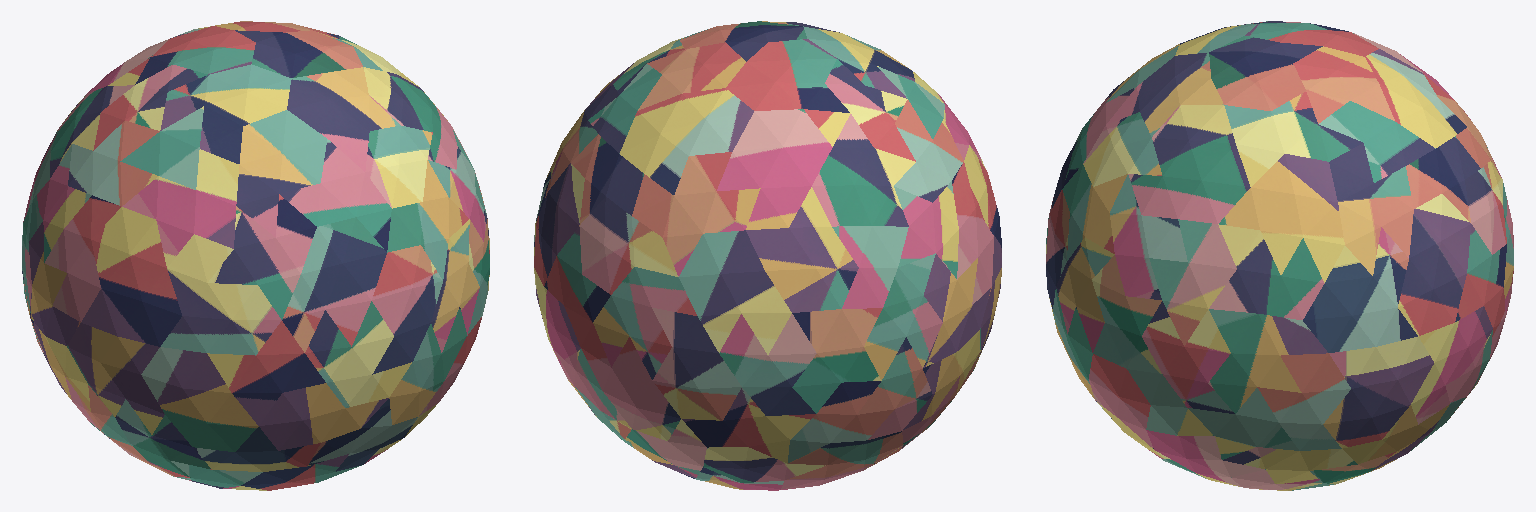
3 views of the same model, side by side, from view 1: azimuth 30°, elevation 25°; view 2: azimuth 150°, elevation 25°; view 3: azimuth 270°, elevation 25° (orthographic).
Parts seen in each view (by area): view 1: Mesh_sphere; view 2: Mesh_sphere; view 3: Mesh_sphere.
Part boxes in pixels (x1,y1,x2,y2): Mesh_sphere: (22, 21, 489, 490); Mesh_sphere: (534, 21, 1001, 490); Mesh_sphere: (1046, 21, 1513, 490).
Bounding box in the file's own units: 2 × 2 × 1.99.
1 materials, 1 textured.